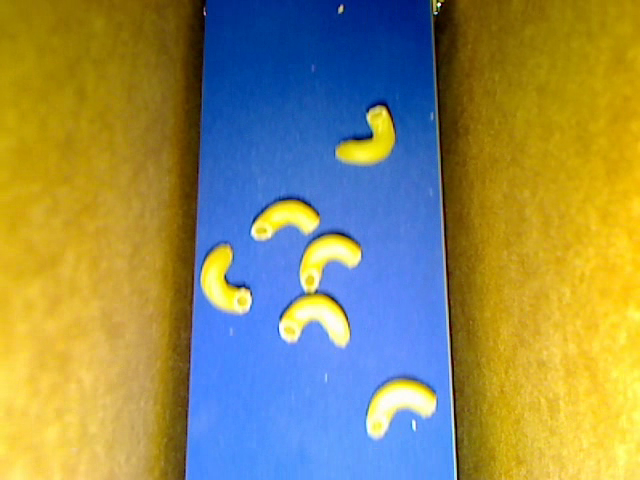elbow: (366, 377, 437, 441), (277, 294, 352, 348), (200, 242, 252, 315), (335, 104, 396, 165), (299, 234, 361, 294), (249, 199, 320, 242)
